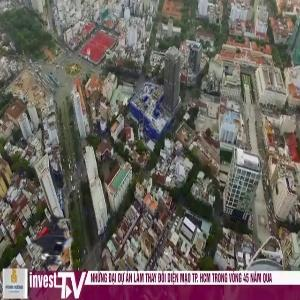drone: (14, 202, 97, 285)
